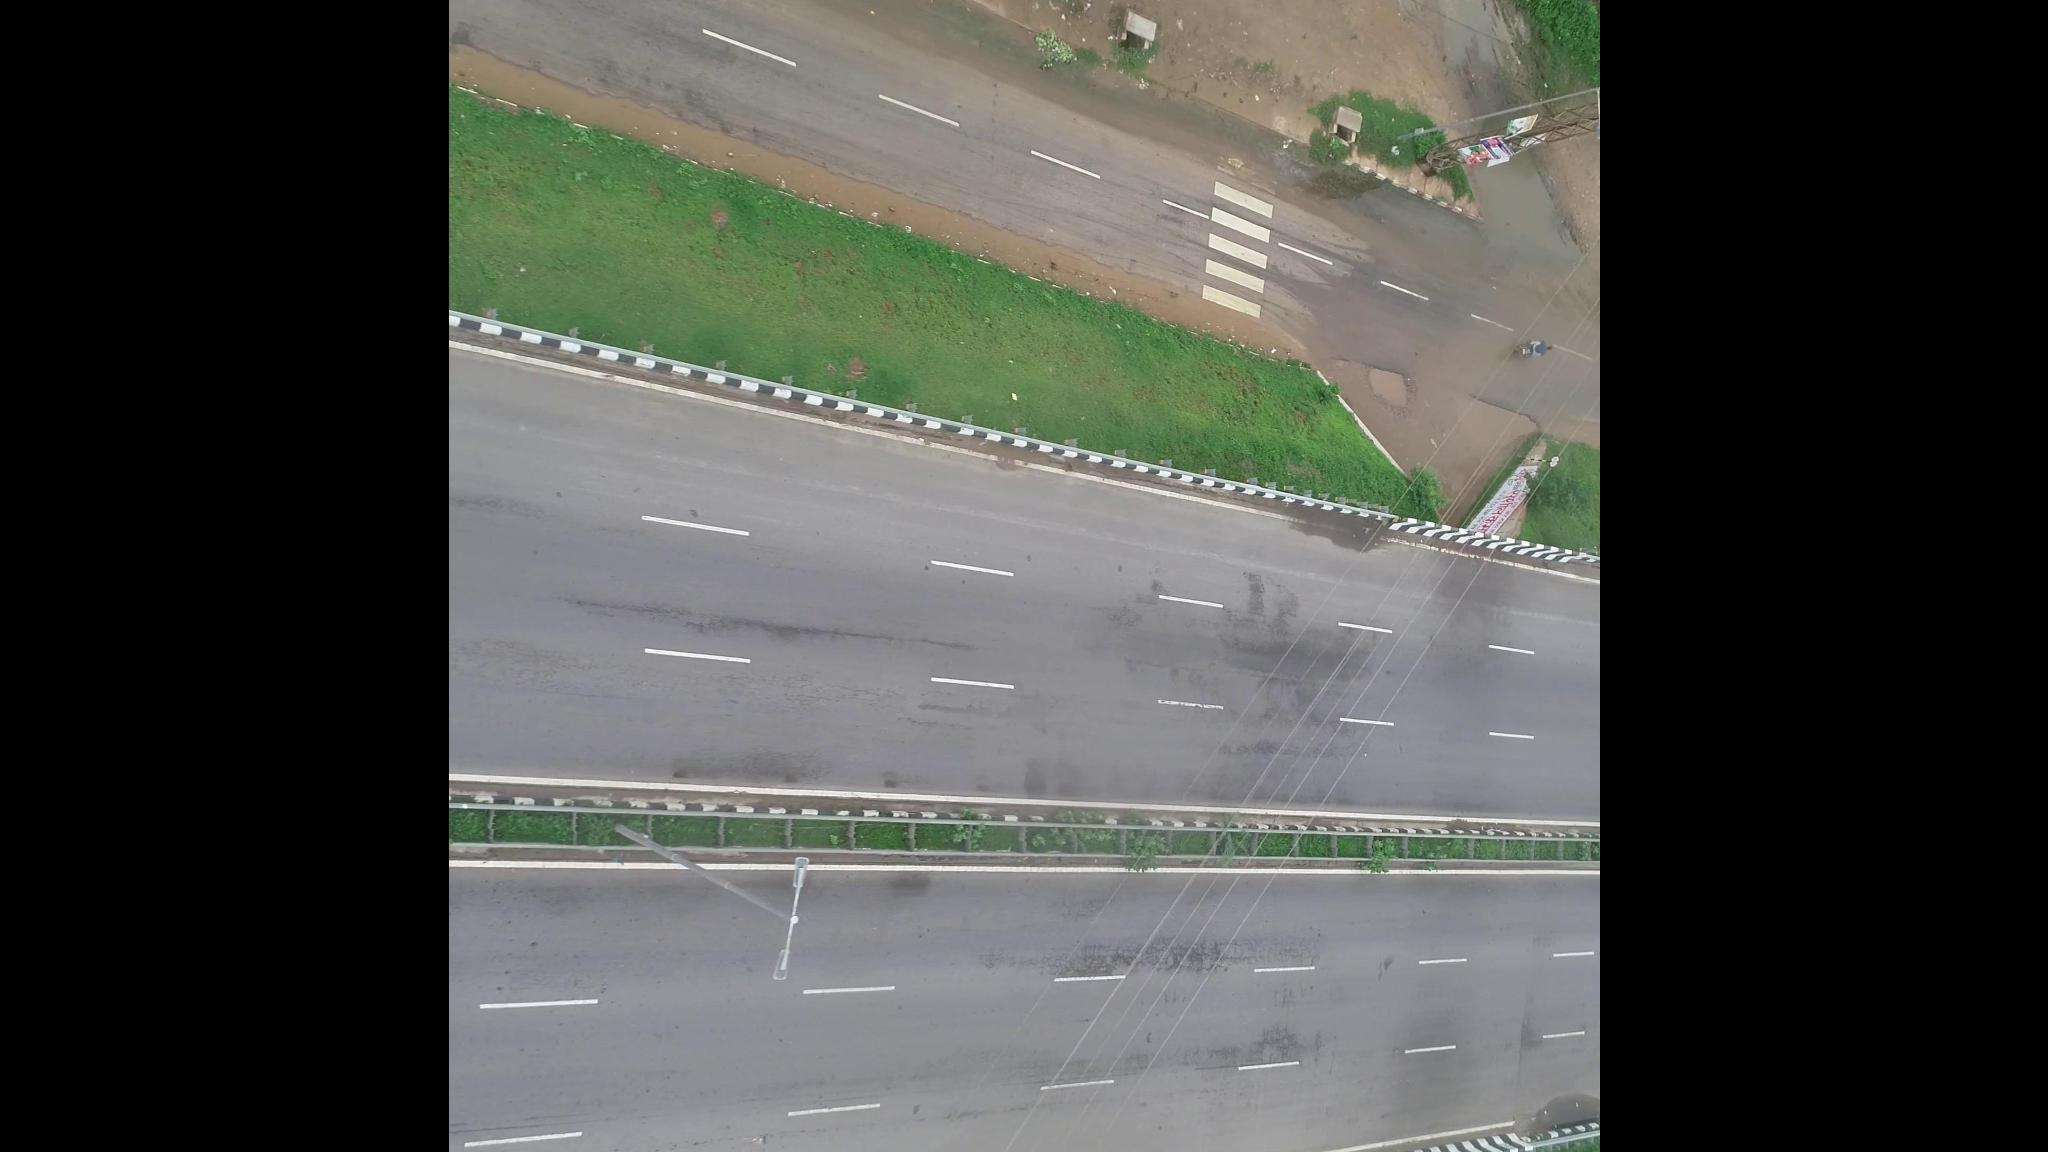Cracks: (564, 582, 969, 657), (1017, 935, 1290, 983)
Potholes: (1362, 345, 1433, 423)
